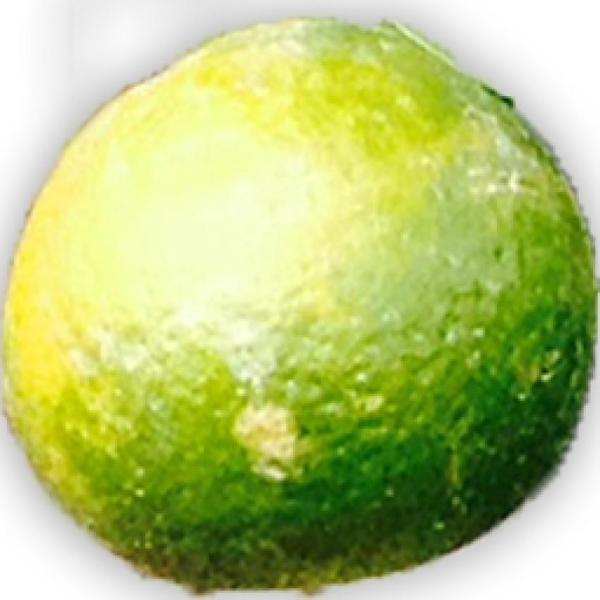Scab: (0, 7, 599, 588)
